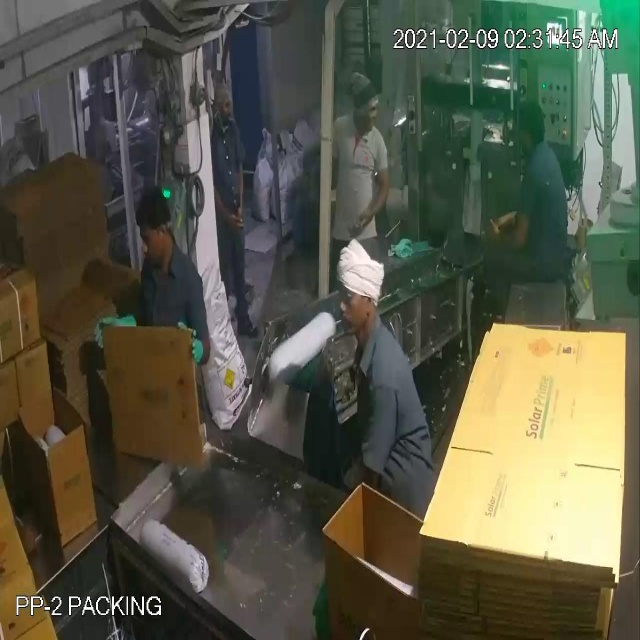Guantes: (86, 306, 145, 354), (162, 315, 207, 374)
Sin_guantes: (349, 159, 397, 242), (480, 182, 531, 259), (203, 169, 246, 236), (221, 156, 254, 220)
